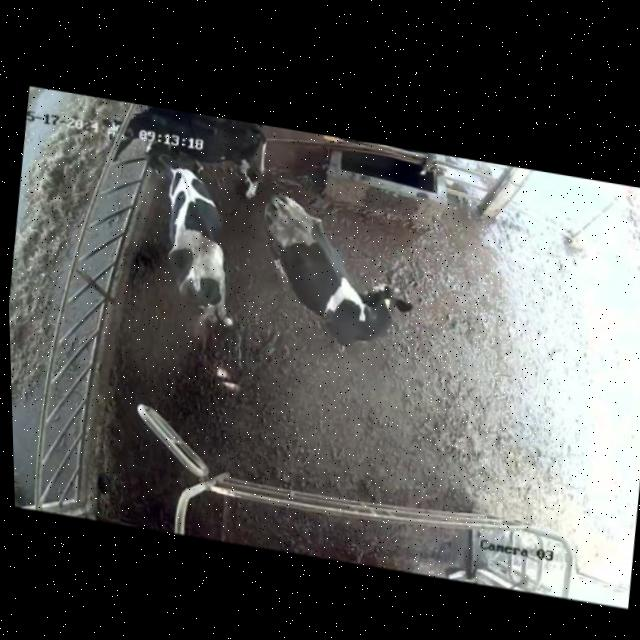eat: (62, 98, 179, 171)
stand: (251, 189, 440, 378), (132, 156, 256, 336)
